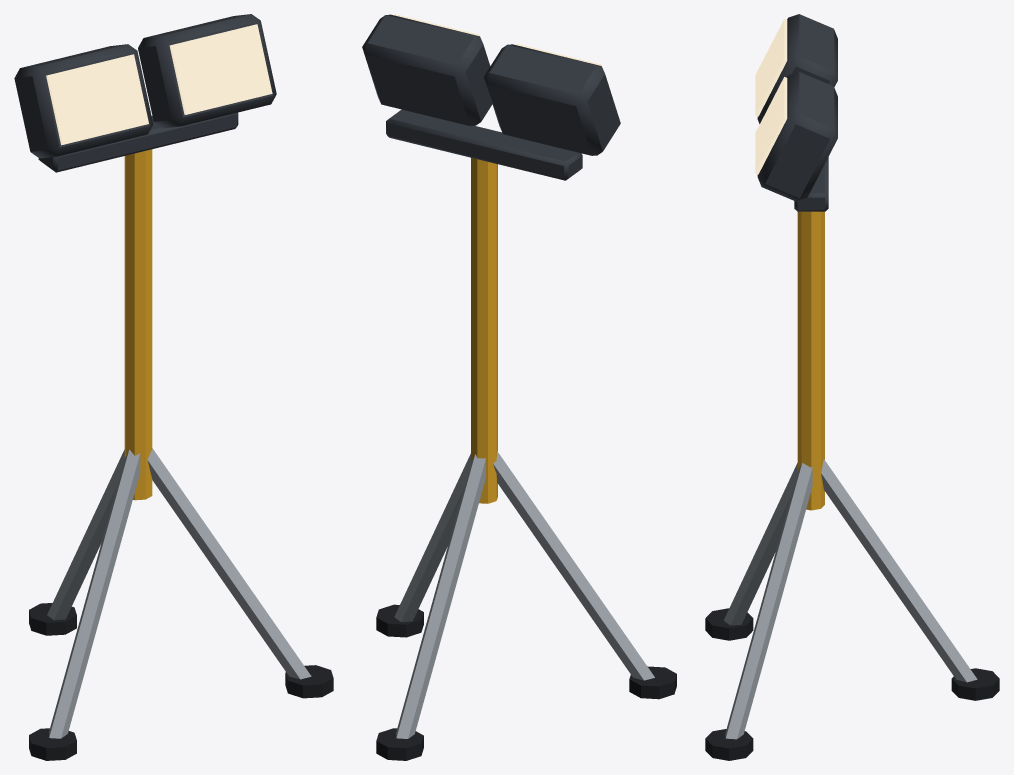
Rendered from floodlight.glb.
3 renders of one model, left to right at view 1: azimuth 30°, elevation 25°; view 2: azimuth 150°, elevation 25°; view 3: azimuth 270°, elevation 25°, orthographic. The views are drawn at different scales.
Parts seen in each view (by area): view 1: floodlight; view 2: floodlight; view 3: floodlight.
Part boxes in pixels (bbox=[...]): floodlight: bbox=[14, 14, 333, 760]; floodlight: bbox=[362, 14, 676, 760]; floodlight: bbox=[705, 14, 999, 760].
Size of the model in its own units: 0.4857 by 1.02 by 0.43.
